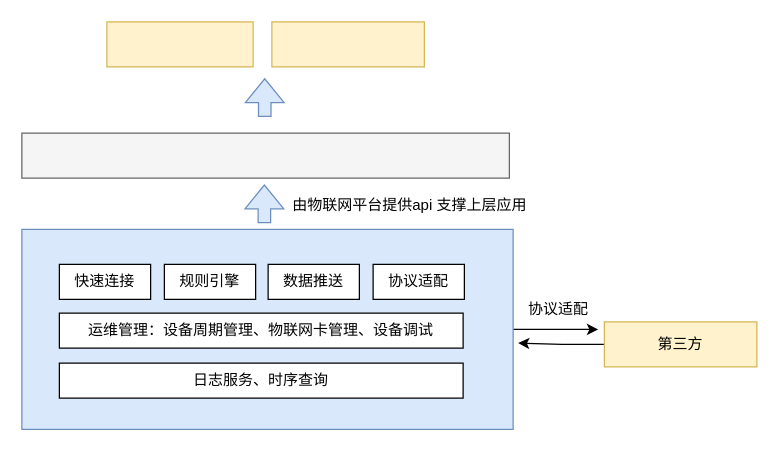
Image size: 779x451. Some labels were removed from this diagram. Here are the shapes that lost their labels. From the top down, the box of each, then its label:
(106, 21, 253, 67): 庇虎
(271, 21, 424, 67): 掌上庇虎
(21, 132, 509, 178): 修养后台
(21, 228, 513, 429): 万象
